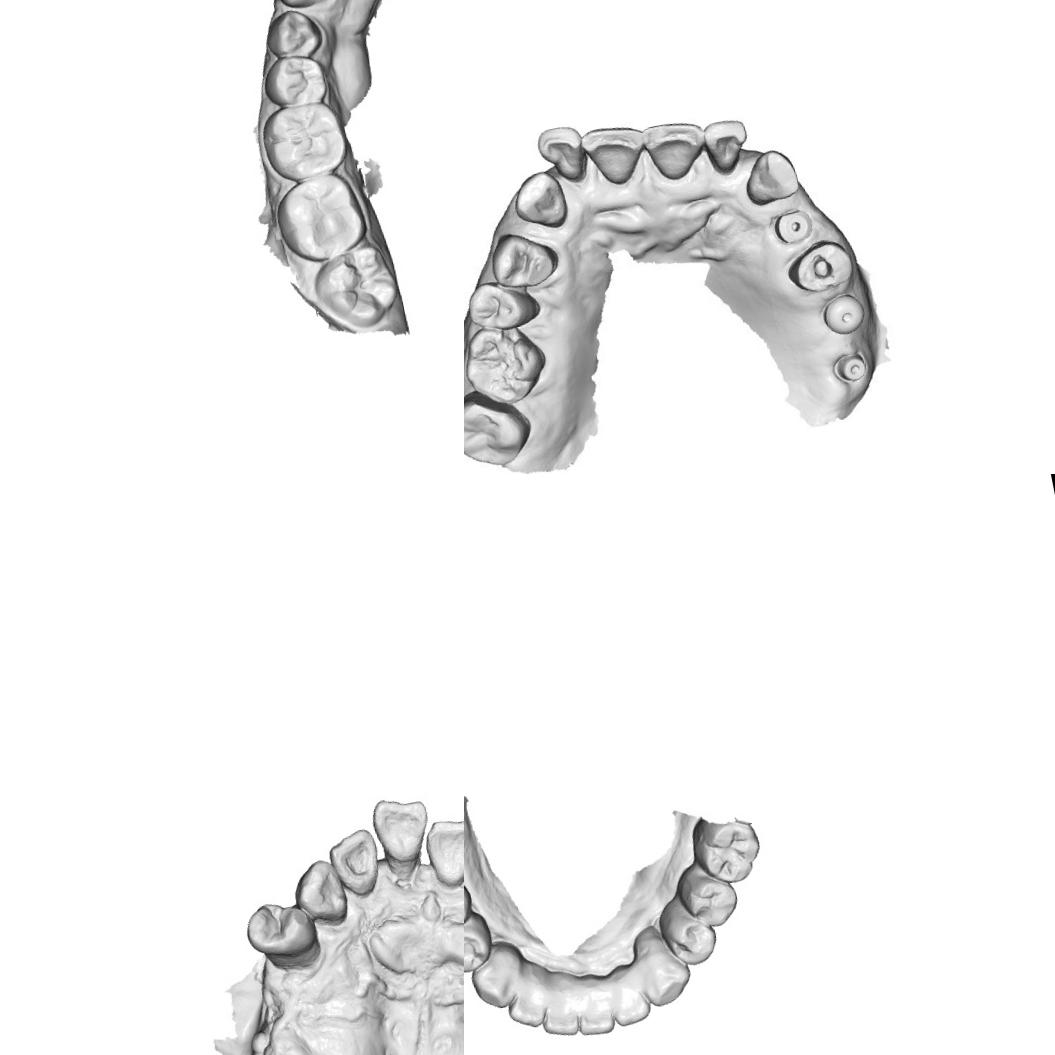canine: (628, 917, 695, 1010), (287, 854, 352, 931), (464, 937, 530, 1012), (736, 143, 804, 214), (506, 167, 572, 238)
implant: (818, 287, 866, 339), (770, 204, 816, 250), (832, 344, 871, 390)
incisor: (367, 790, 435, 869), (579, 116, 651, 190), (640, 113, 712, 184), (324, 826, 386, 900), (497, 955, 554, 1032), (534, 118, 592, 186), (531, 964, 581, 1040), (699, 112, 754, 176), (419, 812, 464, 890), (567, 970, 617, 1038), (604, 962, 653, 1028)
molar: (268, 166, 376, 268), (306, 236, 406, 338), (255, 95, 354, 185), (464, 318, 552, 409), (464, 378, 535, 474), (686, 804, 766, 889)
premolar: (239, 893, 324, 978), (670, 853, 742, 933), (464, 272, 546, 341), (652, 888, 721, 970), (488, 223, 561, 295), (256, 46, 331, 115), (782, 236, 858, 298), (258, 2, 328, 66), (464, 908, 497, 978), (464, 876, 477, 937)
